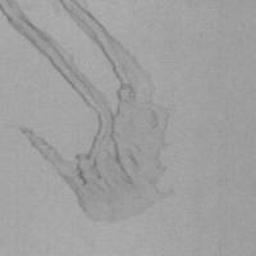Water spot: (0, 0, 177, 225)
